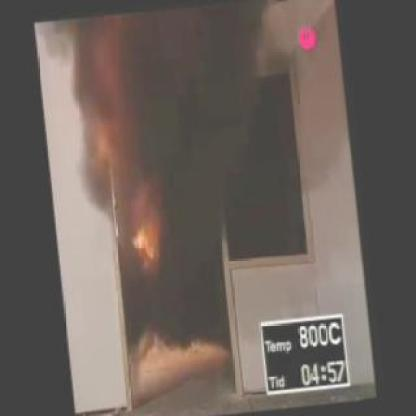Fire: (126, 221, 164, 266)
Smoke: (60, 3, 303, 278)
